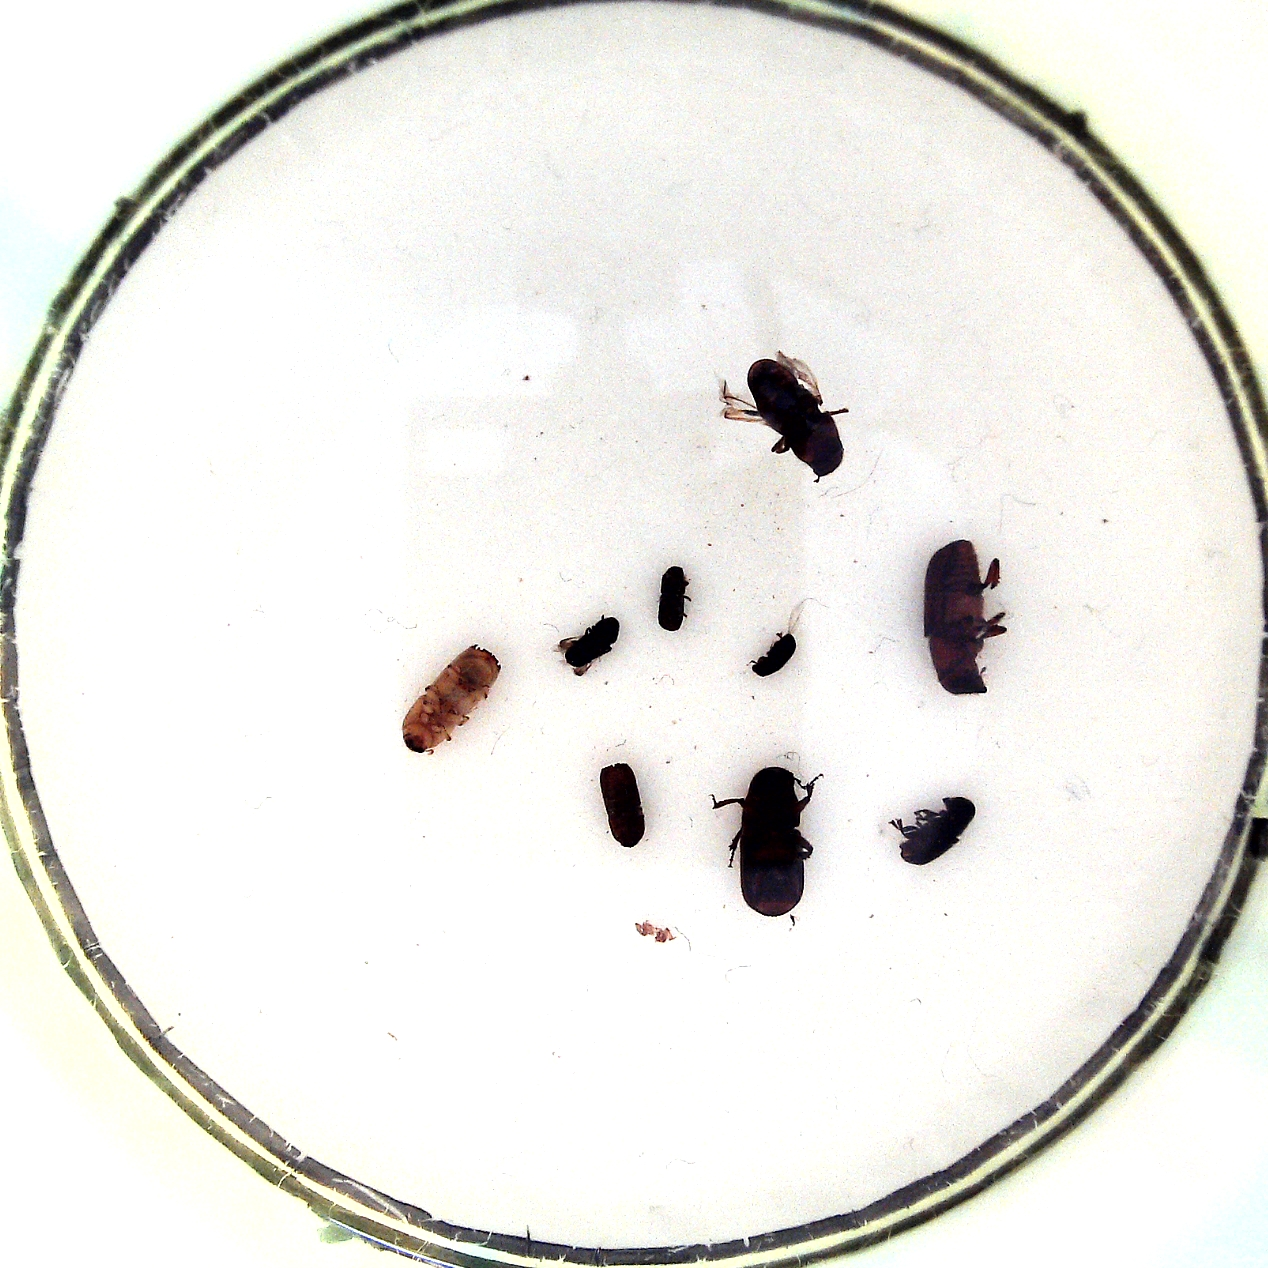Boerner: (395, 639, 509, 757)
Leconte: (703, 757, 822, 925), (709, 348, 850, 487), (914, 531, 1013, 703)
Linnaeus: (592, 759, 656, 853)
armandi: (884, 792, 982, 867)
coleoptera: (554, 613, 624, 677), (745, 620, 804, 680), (654, 562, 697, 637)
